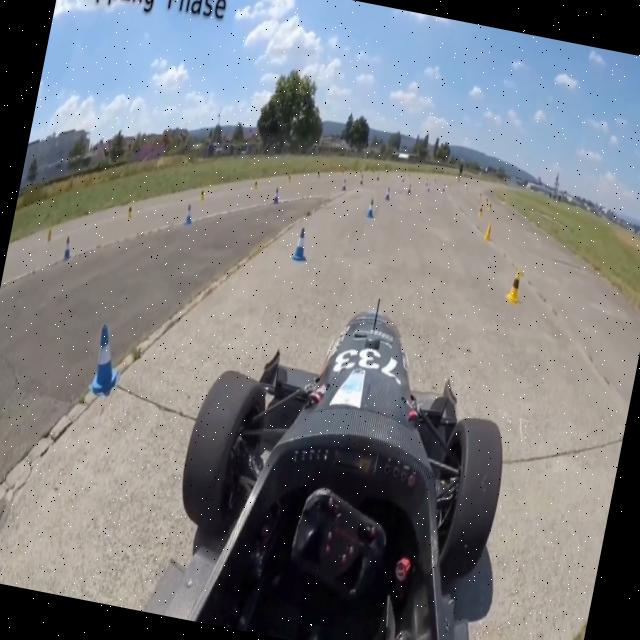blue_cone: (82, 321, 130, 393), (288, 220, 314, 264), (365, 191, 379, 219), (385, 184, 396, 198)
yellow_cone: (505, 266, 529, 298), (474, 196, 486, 218), (481, 222, 493, 238)
